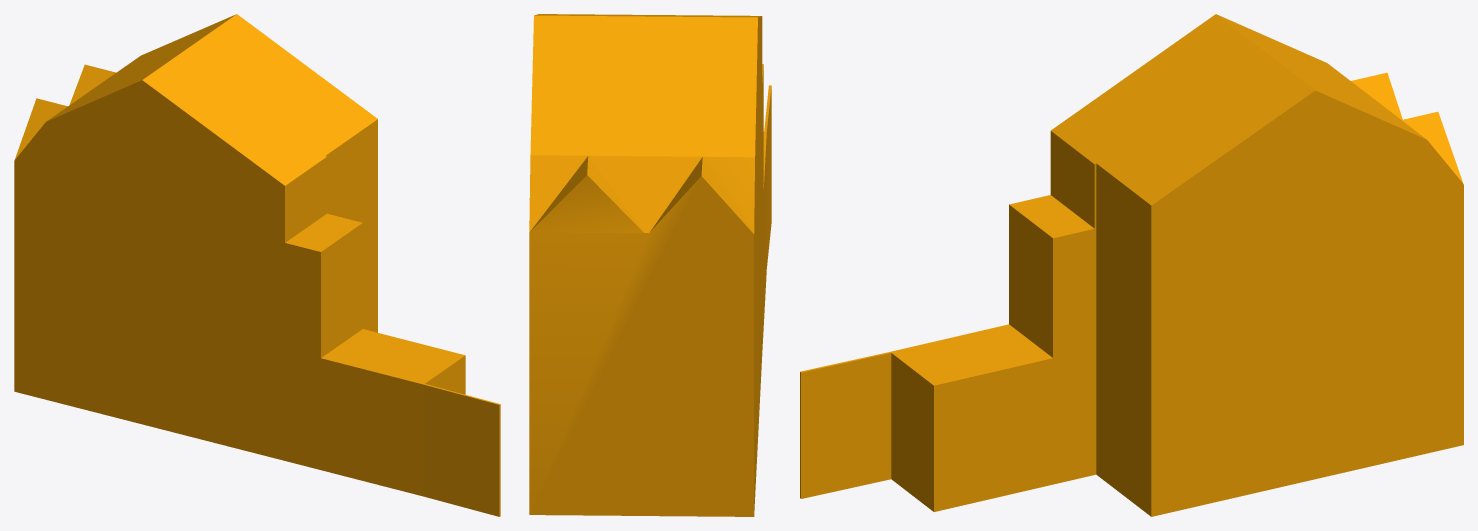
The model's file is DEHB01ALk00017p2.gltf.
3 renders of one model, left to right at view 1: azimuth 30°, elevation 25°; view 2: azimuth 150°, elevation 25°; view 3: azimuth 270°, elevation 25°, orthographic. The views are drawn at different scales.
Visible parts, largest first — view 1: Z_UP; view 2: Z_UP; view 3: Z_UP.
Boxes of the visible parts, x1,y1,x2,y2 form: Z_UP: (14,14,500,516); Z_UP: (529,14,771,516); Z_UP: (800,14,1463,516).
Size of the model in its own units: 9.77 by 11.92 by 18.44.
